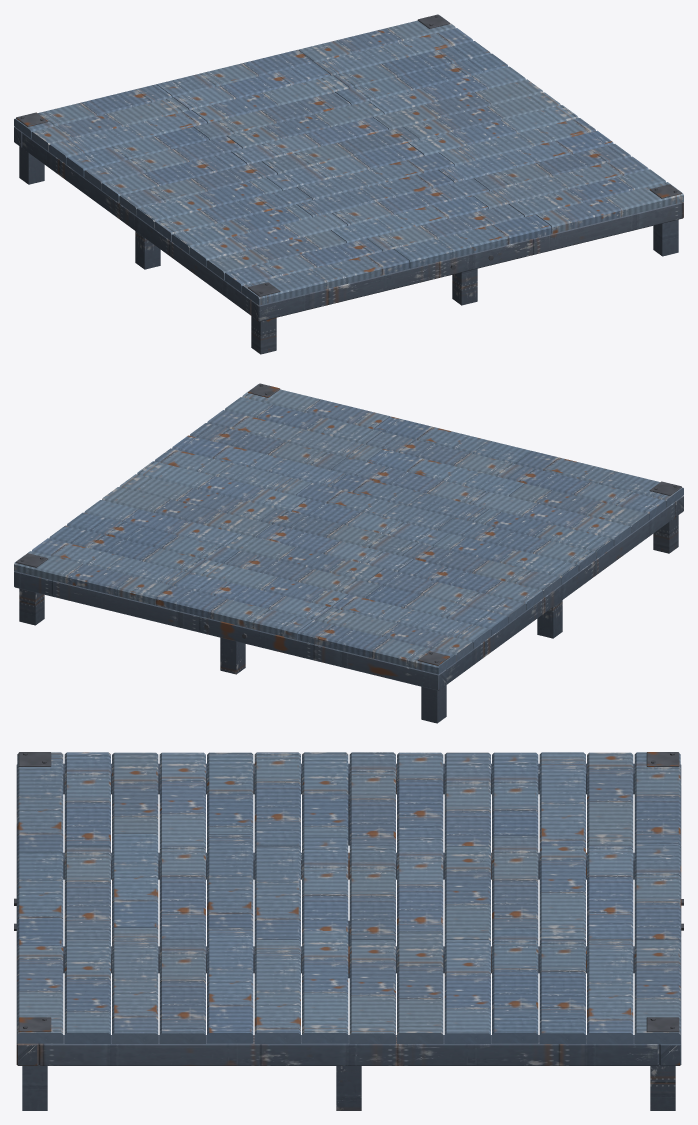
File: makine_platformu_buyuk.glb
The picture shows the model from 3 angles, top to bottom: view 1: azimuth 30°, elevation 25°; view 2: azimuth 150°, elevation 25°; view 3: azimuth 270°, elevation 25°; orthographic projection. The views are drawn at different scales.
Visible parts, largest first — view 1: makine_platformu_buyuk; view 2: makine_platformu_buyuk; view 3: makine_platformu_buyuk.
Boxes of the visible parts, x1,y1,x2,y2 form: makine_platformu_buyuk: (14, 14, 683, 354); makine_platformu_buyuk: (14, 383, 683, 723); makine_platformu_buyuk: (14, 752, 683, 1110).
Bounding box in the file's own units: 9 × 1.24 × 9.07.
Materials: 1 (1 with a texture image).
